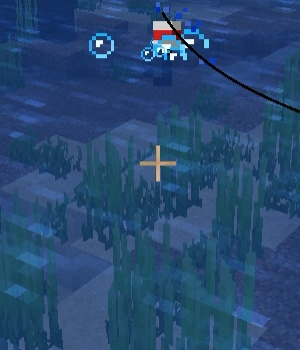up: (147, 18, 187, 92)
